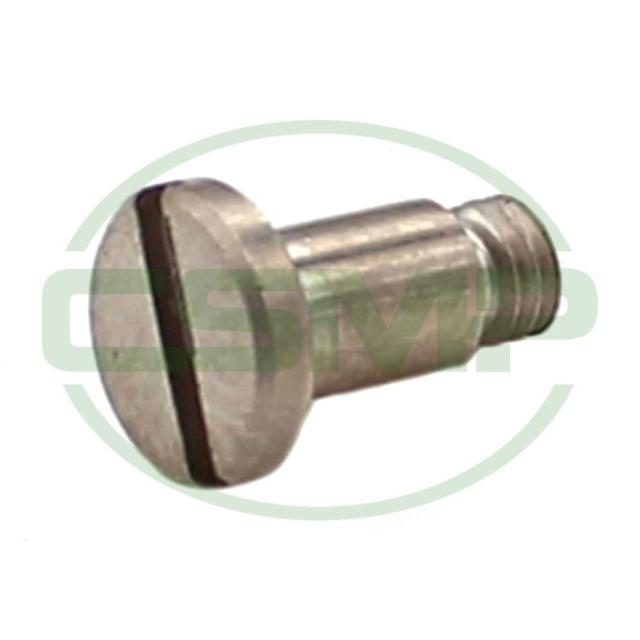duz: (85, 175, 308, 492)
